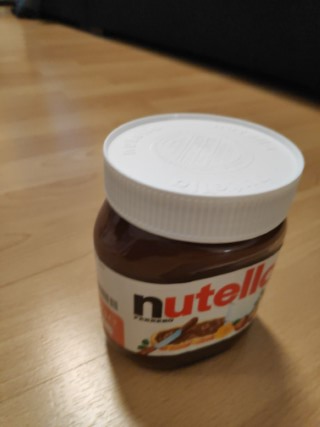nutella: (90, 110, 306, 373)
